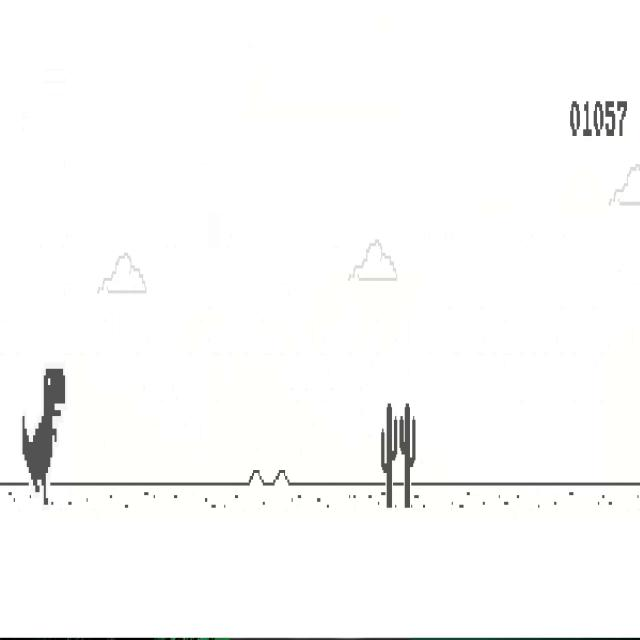cacto: (380, 403, 398, 509), (399, 402, 416, 509)
dino: (22, 368, 65, 506)
